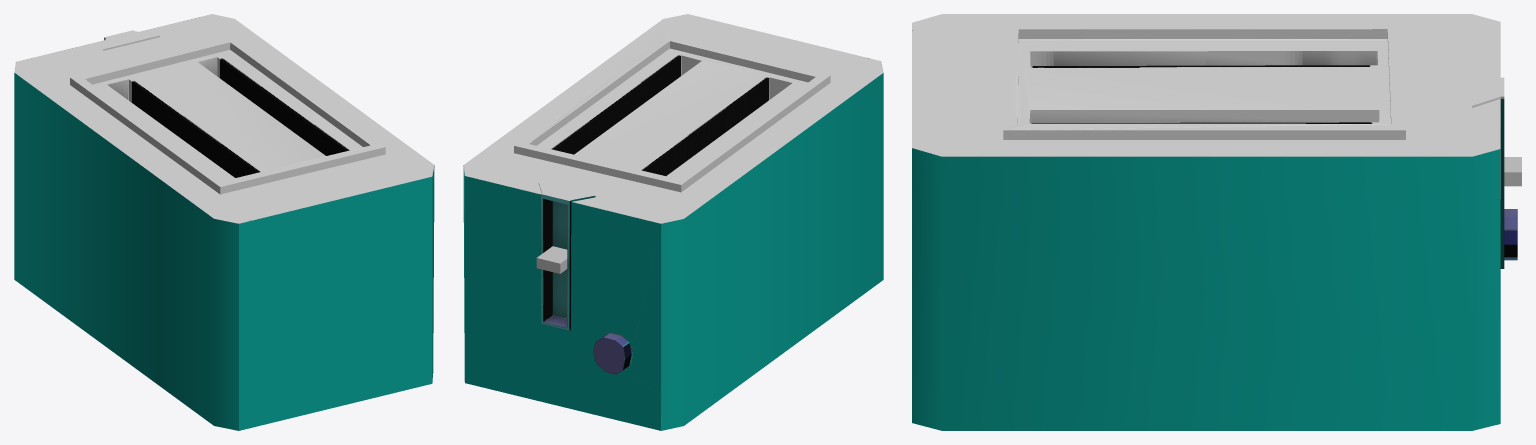
The model's file is Toaster.FBX.
The picture shows the model from 3 angles, left to right: view 1: azimuth 30°, elevation 25°; view 2: azimuth 150°, elevation 25°; view 3: azimuth 270°, elevation 25°; orthographic projection. The views are drawn at different scales.
Visible parts, largest first — view 1: Box001; view 2: Box001, Button; view 3: Box001.
Boxes of the visible parts, box(x1,y1,x2,y2) form: Box001: box(14, 14, 434, 430); Box001: box(463, 14, 883, 430); Button: box(536, 246, 567, 273); Box001: box(912, 14, 1517, 430).
Size of the model in its own units: 31.65 by 29.47 by 57.13.
